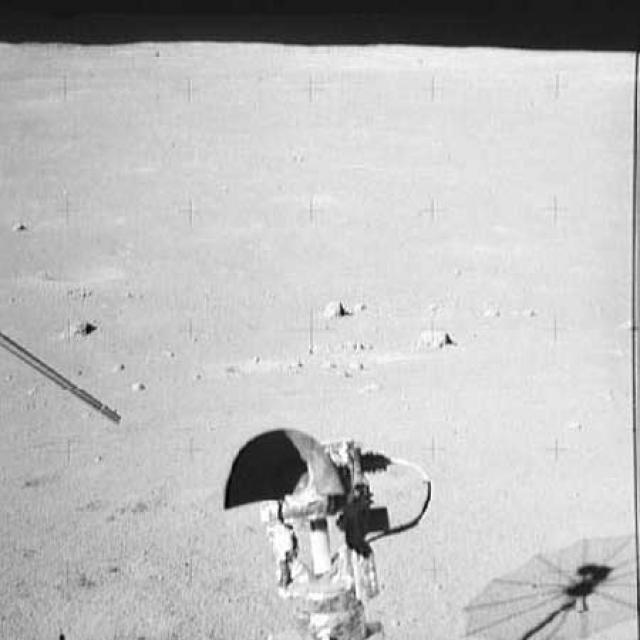artifact: (222, 424, 439, 638), (0, 327, 123, 432)
crater: (30, 260, 123, 286)
rock: (415, 324, 455, 358), (57, 317, 100, 347), (318, 295, 350, 319)
